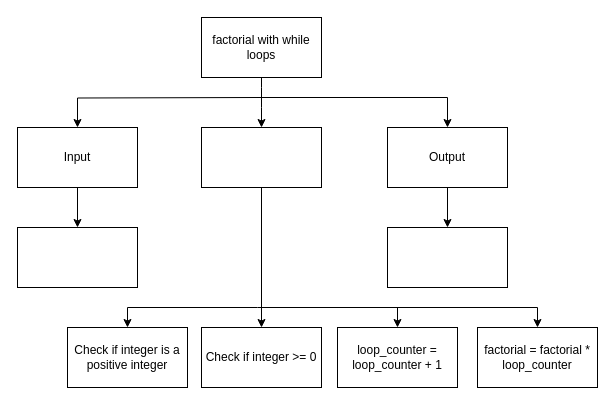
This 615x405 diagram has some shape labels left out. Here are the shapes that lost their labels. From the top down, the centre of each, then its label:
At (261,157): "Process".
At (77,257): "Get integer".
At (447,257): "Show what factorial is when loop_counter = positive_integer".
